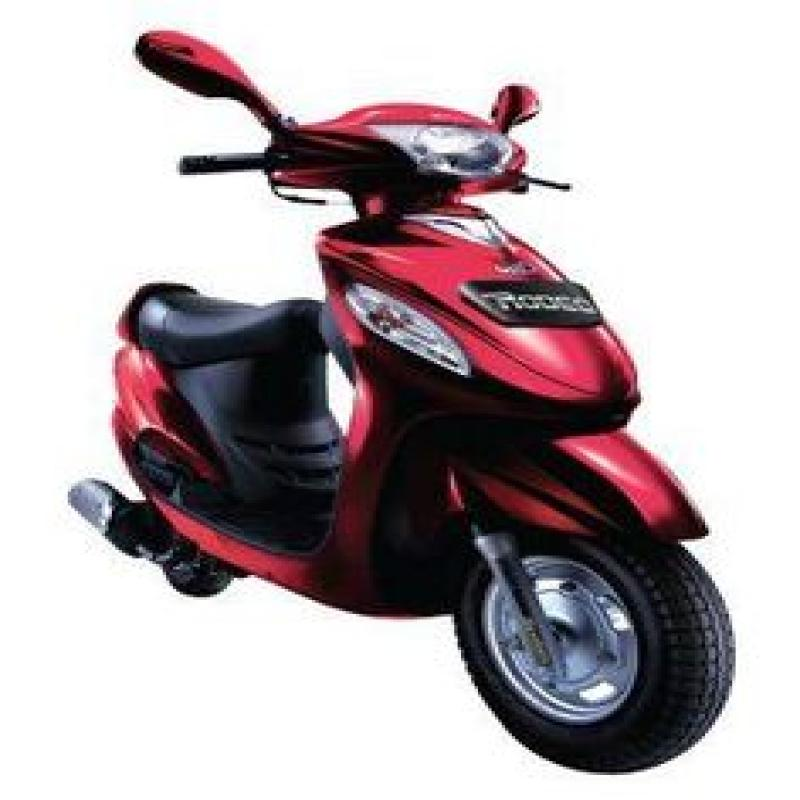bike: (61, 20, 752, 788)
